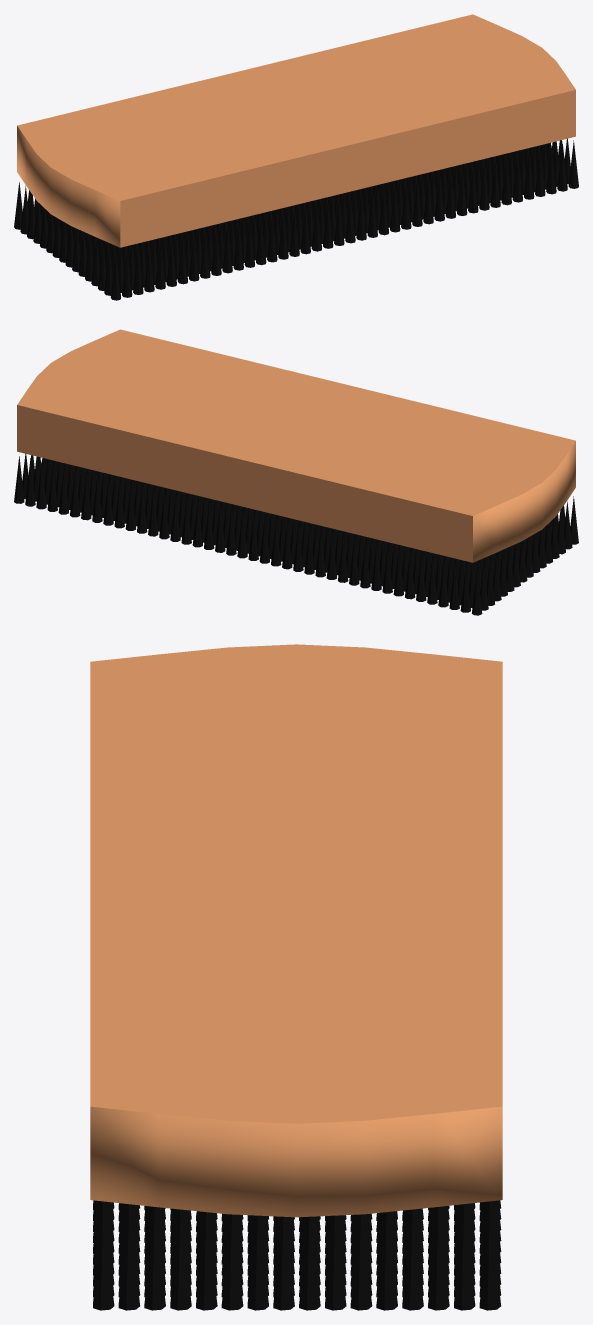
Rendered from Bruh.fbx.
3 views of the same model, one above another, from view 1: azimuth 30°, elevation 25°; view 2: azimuth 150°, elevation 25°; view 3: azimuth 270°, elevation 25° (orthographic). The views are drawn at different scales.
Parts seen in each view (by area): view 1: Brsh, BrushTooth.148, BrushTooth.150, BrushTooth.166, BrushTooth.152, BrushTooth.155, BrushTooth.160, BrushTooth.163, BrushTooth.153, BrushTooth.157, BrushTooth.159, BrushTooth.161 (+17 smaller); view 2: Brsh, BrushTooth.007, BrushTooth.056, BrushTooth.039, BrushTooth.070, BrushTooth.093, BrushTooth.078, BrushTooth.118, BrushTooth.126, BrushTooth.015, BrushTooth.102, BrushTooth.147 (+17 smaller); view 3: Brsh, BrushTooth.125, BrushTooth.163, BrushTooth.119, BrushTooth.124, BrushTooth.120, BrushTooth.123, BrushTooth.121, BrushTooth.122, BrushTooth.118, BrushTooth.162, BrushTooth.112 (+5 smaller).
Part boxes in pixels (x1,y1,x2,y2): Brsh: [17, 14, 575, 247]; BrushTooth.148: [104, 247, 132, 300]; BrushTooth.150: [151, 236, 176, 289]; BrushTooth.166: [352, 187, 377, 240]; BrushTooth.152: [218, 220, 243, 273]; BrushTooth.155: [307, 198, 333, 251]; BrushTooth.160: [464, 160, 489, 213]; BrushTooth.163: [553, 138, 578, 191]; BrushTooth.153: [240, 215, 266, 267]; BrushTooth.157: [374, 182, 400, 235]; BrushTooth.159: [419, 171, 444, 224]; BrushTooth.161: [486, 155, 511, 207]; Brsh: [17, 329, 575, 562]; BrushTooth.007: [460, 562, 488, 615]; BrushTooth.056: [393, 546, 419, 599]; BrushTooth.039: [349, 535, 374, 588]; BrushTooth.070: [237, 508, 262, 560]; BrushTooth.093: [148, 486, 173, 539]; BrushTooth.078: [192, 497, 218, 549]; BrushTooth.118: [36, 459, 61, 511]; BrushTooth.126: [304, 524, 329, 577]; BrushTooth.015: [438, 557, 463, 609]; BrushTooth.102: [103, 475, 128, 528]; BrushTooth.147: [58, 464, 84, 517]; Brsh: [90, 644, 502, 1217]; BrushTooth.125: [454, 1202, 501, 1310]; BrushTooth.163: [93, 1202, 140, 1310]; BrushTooth.119: [144, 1207, 191, 1310]; BrushTooth.124: [402, 1207, 449, 1310]; BrushTooth.120: [196, 1212, 243, 1310]; BrushTooth.123: [350, 1212, 397, 1310]; BrushTooth.121: [247, 1215, 294, 1310]; BrushTooth.122: [299, 1215, 346, 1310]; BrushTooth.118: [454, 1201, 501, 1286]; BrushTooth.162: [93, 1201, 140, 1286]; BrushTooth.112: [144, 1206, 191, 1286].
Bounding box in the file's own units: 220 × 42.5 × 80.
